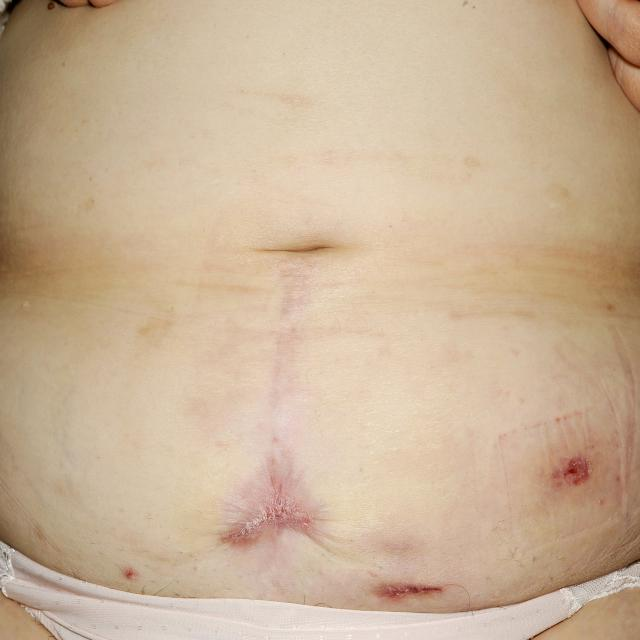wound: (186, 404, 615, 604)
